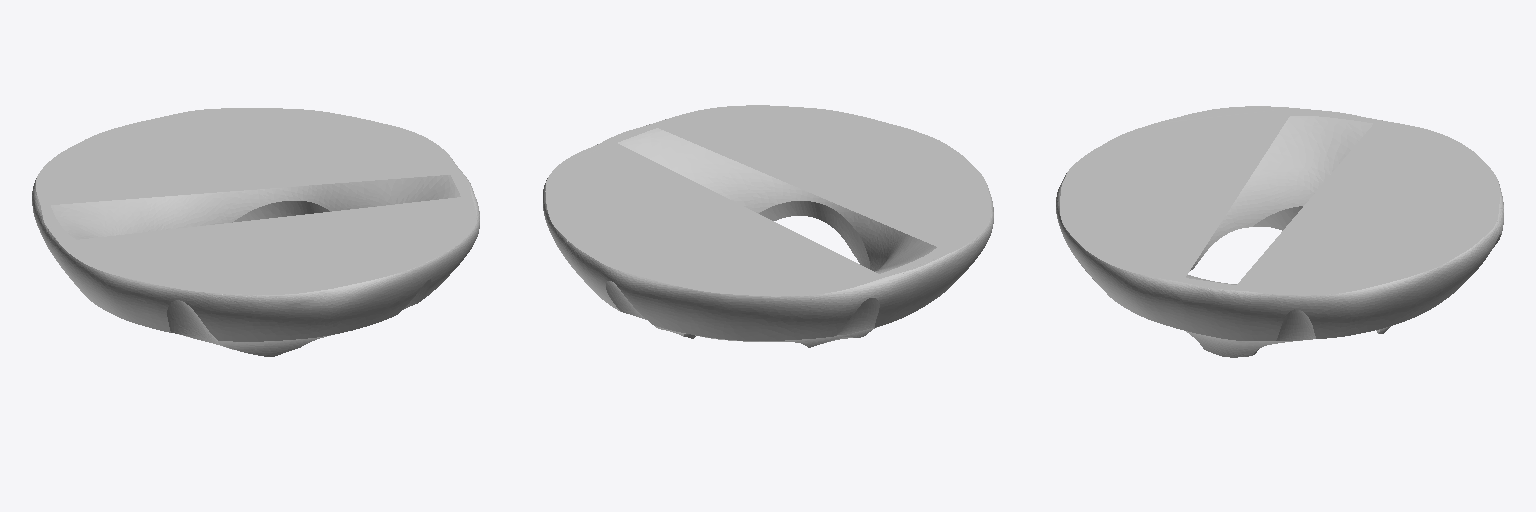
File: FOOD.13.obj
The picture shows the model from 3 angles: view 1: azimuth 30°, elevation 25°; view 2: azimuth 150°, elevation 25°; view 3: azimuth 270°, elevation 25°; orthographic projection.
Parts seen in each view (by area): view 1: Torus; view 2: Torus; view 3: Torus.
Boxes of the visible parts, box(x1,y1,x2,y2) form: Torus: box(32, 108, 479, 356); Torus: box(543, 105, 993, 347); Torus: box(1056, 106, 1503, 357).
Size of the model in its own units: 3.37 by 0.9081 by 3.35.